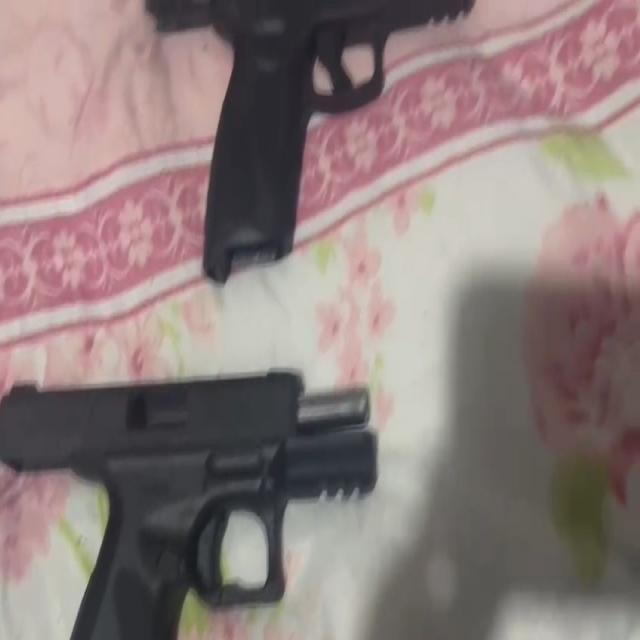gun: (1, 363, 380, 640), (182, 0, 478, 288)
